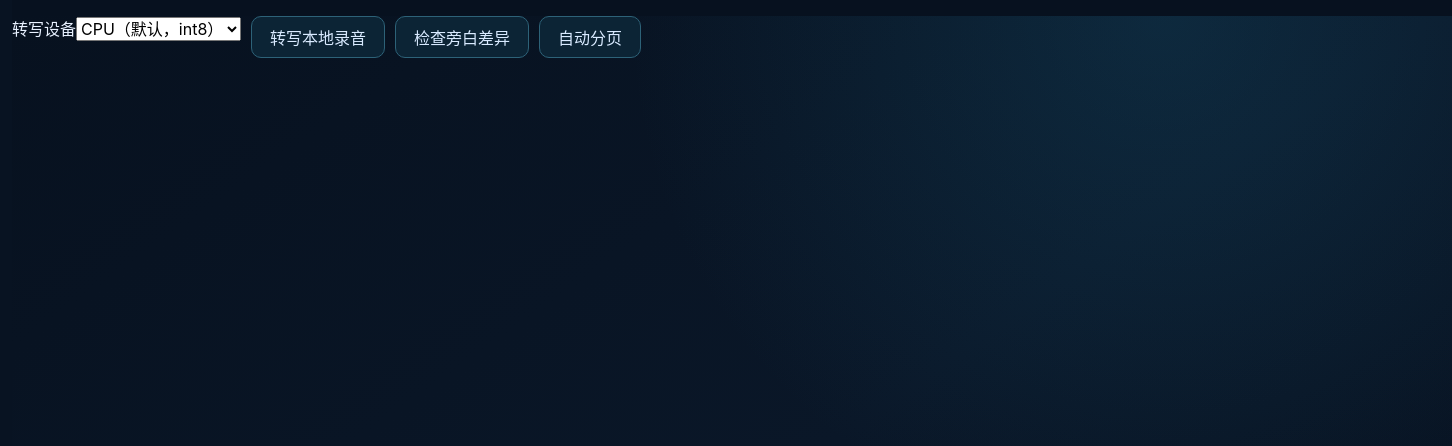
Test: exposes transcription, difference comparison and automatic paging in order
Select "CUDA（float16）" in the dropdown labelled "转写设备" at [158, 29], box [76,17,241,41]
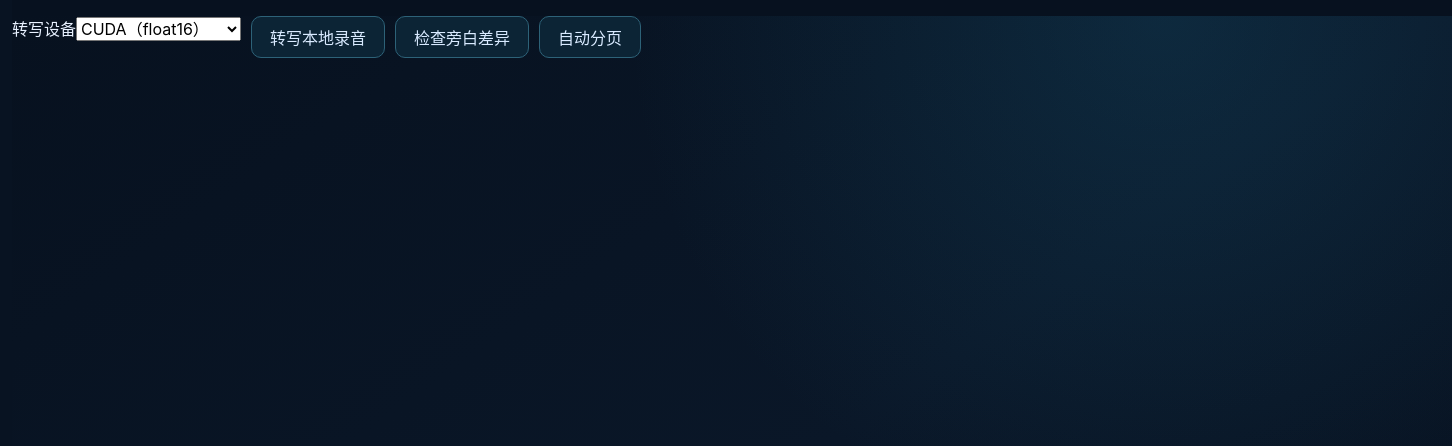
Click the button "转写本地录音" at [318, 37], box [251,16,385,58]
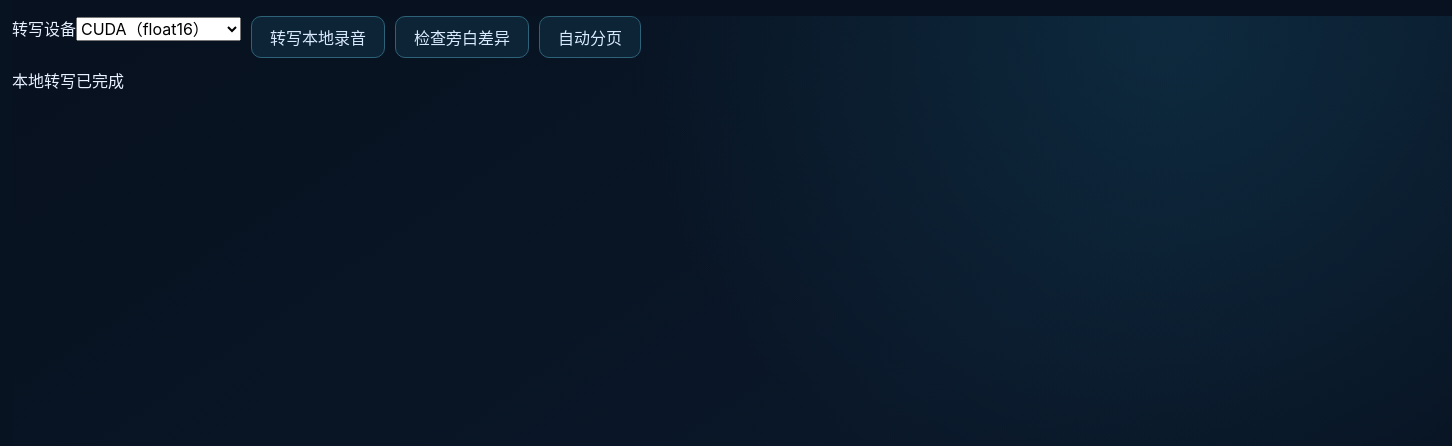
Now the text "本地转写已完成" is shown, box [12,71,124,91]
Click the button "检查旁白差异" at [462, 37], box [395,16,529,58]
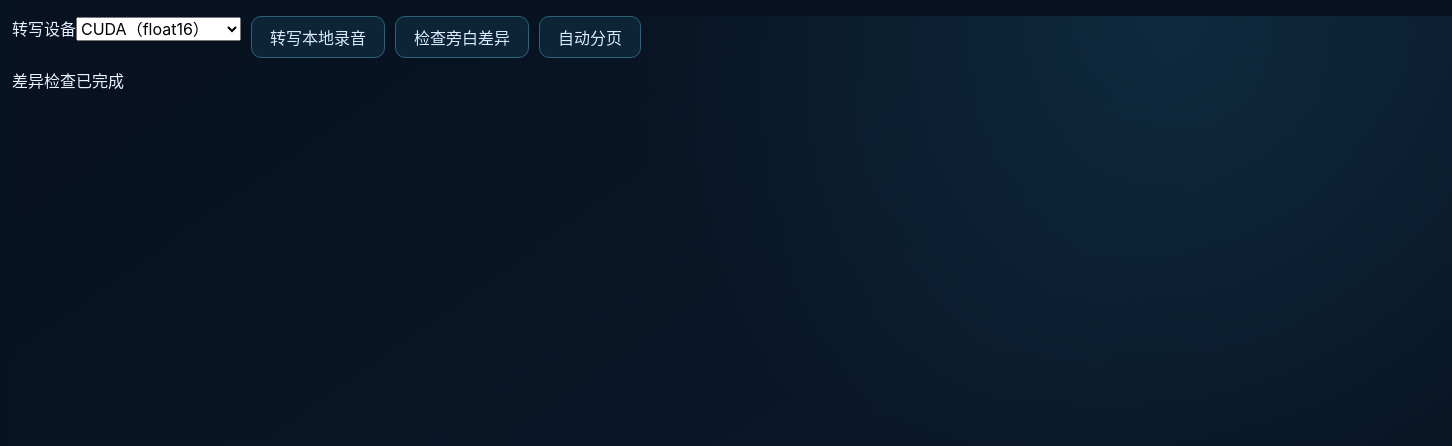
Now the text "差异检查已完成" is shown, box [12,71,124,91]
Click the button "自动分页" at [590, 37], box [539,16,641,58]
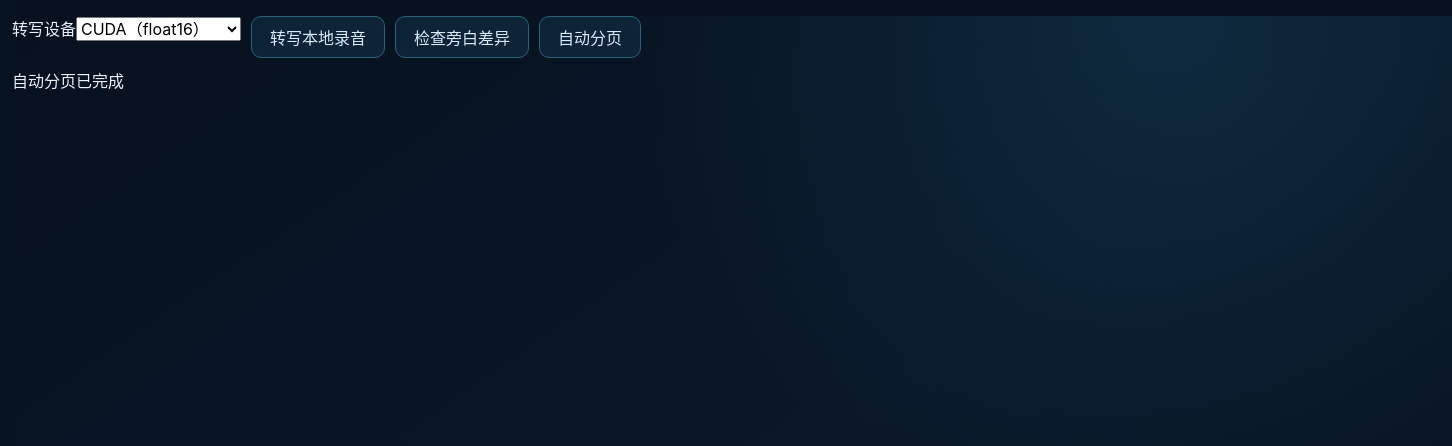
Now the text "自动分页已完成" is shown, box [12,71,124,91]
